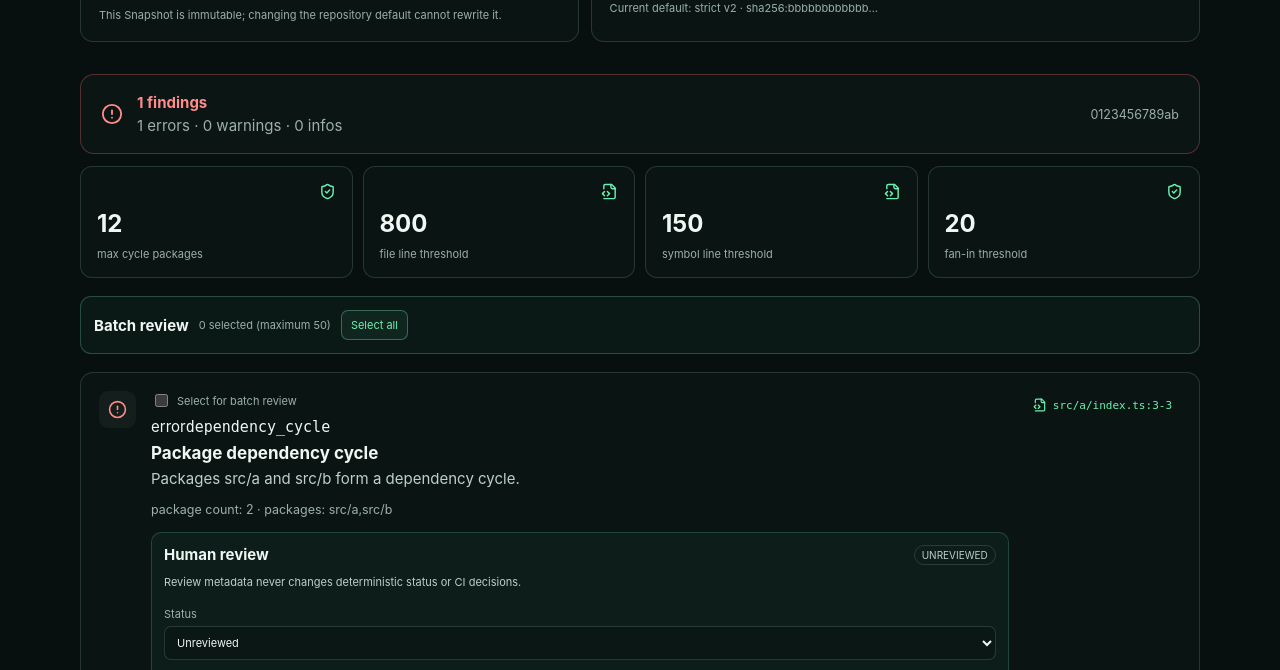
GuardrailsPanel › keeps batch selection and draft note after an atomic failure
(page scrolled)
Click the checkbox named "Select Package dependency cycle for batch review": click(162, 401) [155,394,168,407]
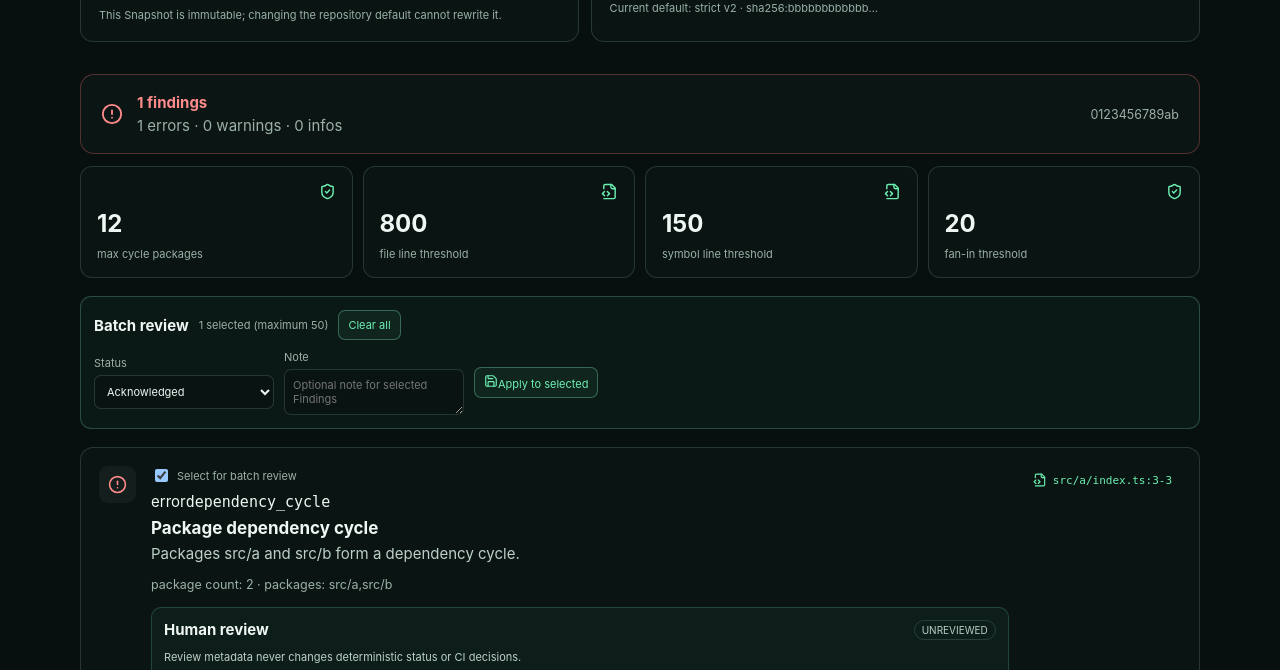
In the text box named "Batch review note": (374, 392) [284,369,464,415], type "Keep this draft"
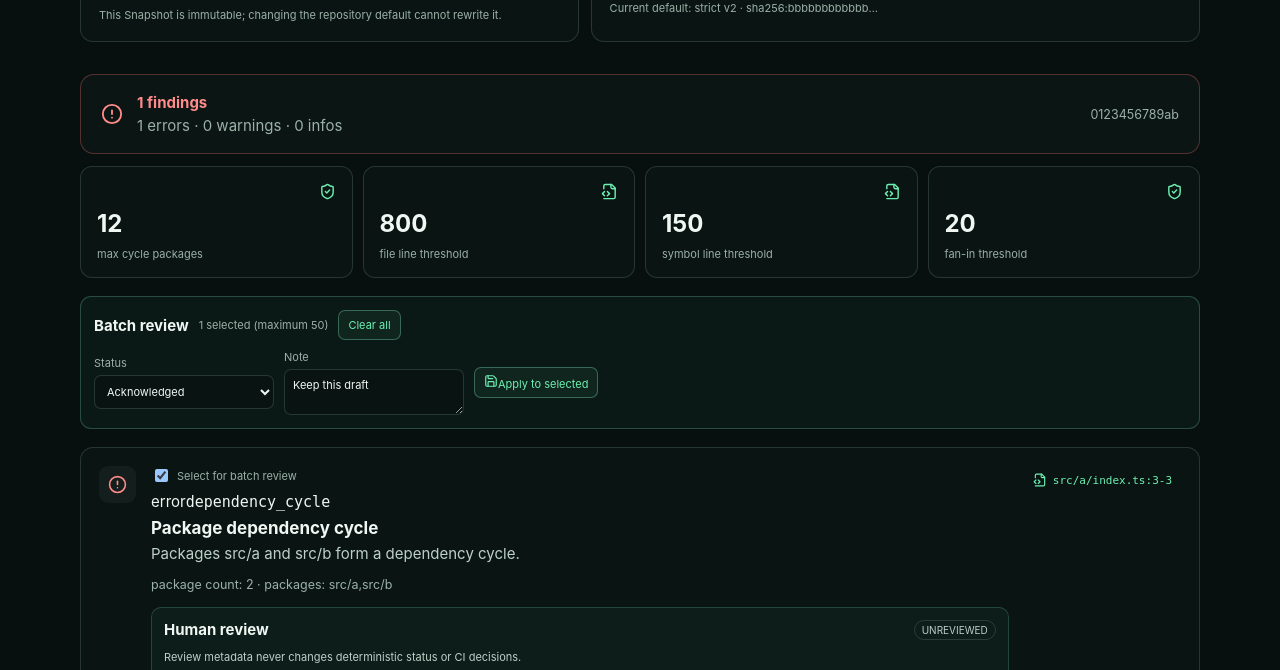
Click the button "Apply to selected": click(536, 383) [474,367,598,398]
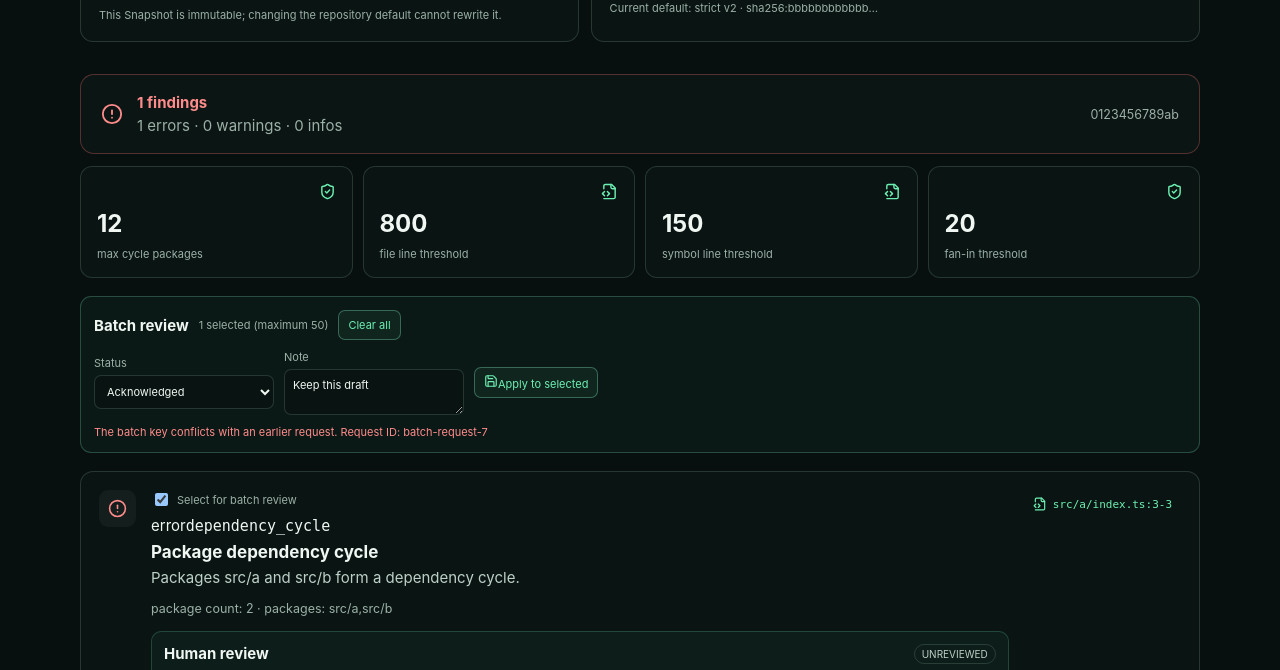
Now the checkbox named "Select Package dependency cycle for batch review" is checked, box [155,493,168,506]
Now the text "The batch key conflicts with an earlier request. Request ID: batch-request-7" is shown, box [94,425,488,439]
